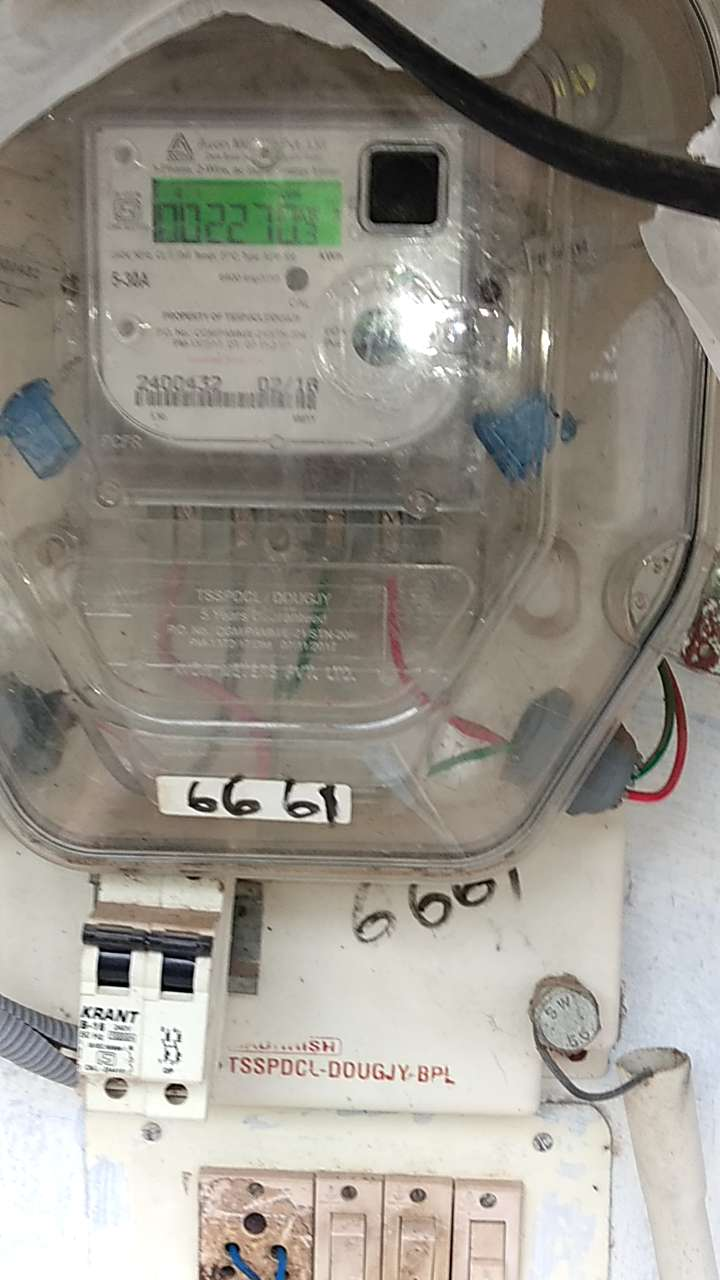meter_serial_number: (130, 371, 233, 395)
